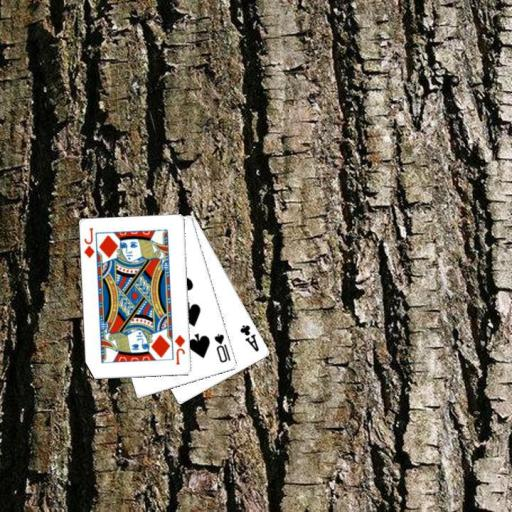10S: (211, 331, 233, 364)
AC: (237, 322, 261, 354)
JD: (172, 332, 187, 367), (81, 225, 96, 260)
